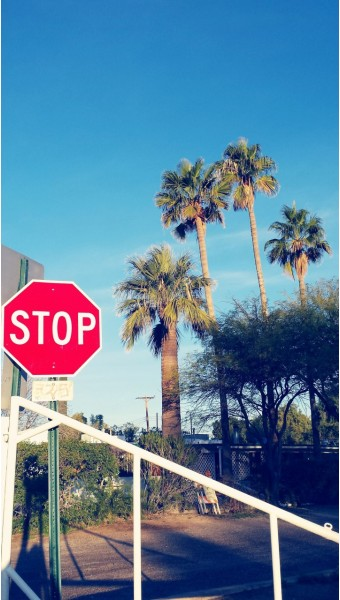SS: (3, 277, 104, 377)
